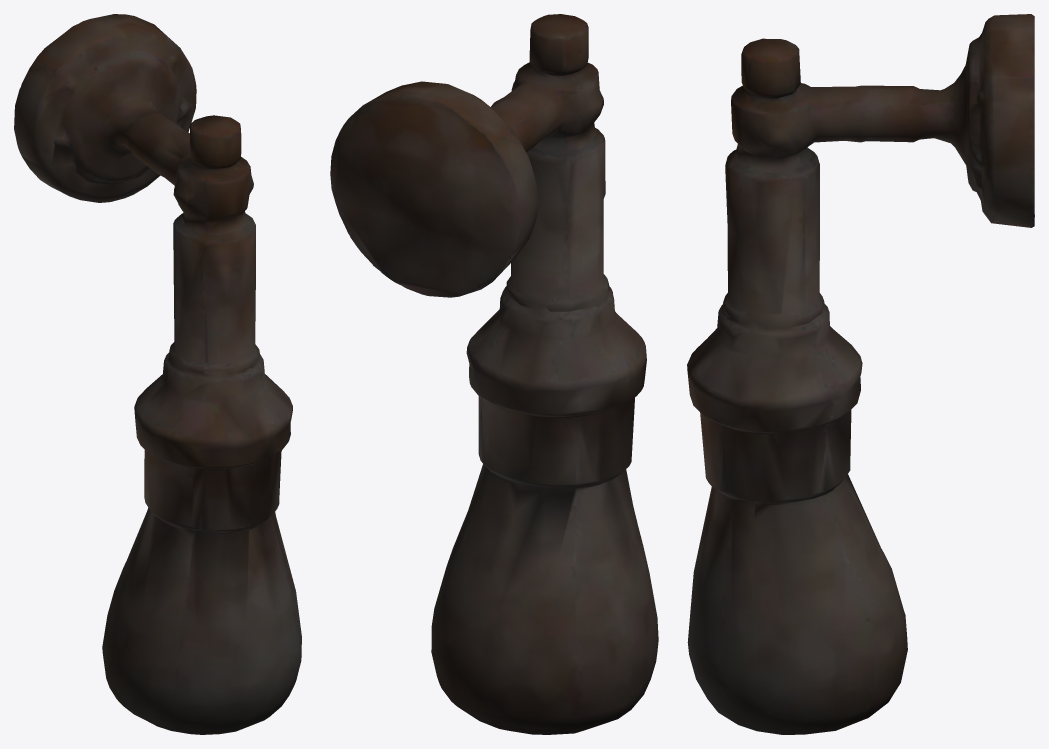
File: chipped-iron-wall-torch-v002.glb
3 views of the same model, side by side, from view 1: azimuth 30°, elevation 25°; view 2: azimuth 150°, elevation 25°; view 3: azimuth 270°, elevation 25° (orthographic). The views are drawn at different scales.
Parts seen in each view (by area): view 1: chipped-iron-wall-torch; view 2: chipped-iron-wall-torch; view 3: chipped-iron-wall-torch.
Part boxes in pixels (left/top/right/bottom): chipped-iron-wall-torch: left=14, top=14, right=301, bottom=734; chipped-iron-wall-torch: left=330, top=14, right=658, bottom=734; chipped-iron-wall-torch: left=687, top=14, right=1034, bottom=734.
Size of the model in its own units: 0.1694 by 0.5896 by 0.2645.
1 material, 1 textured.
